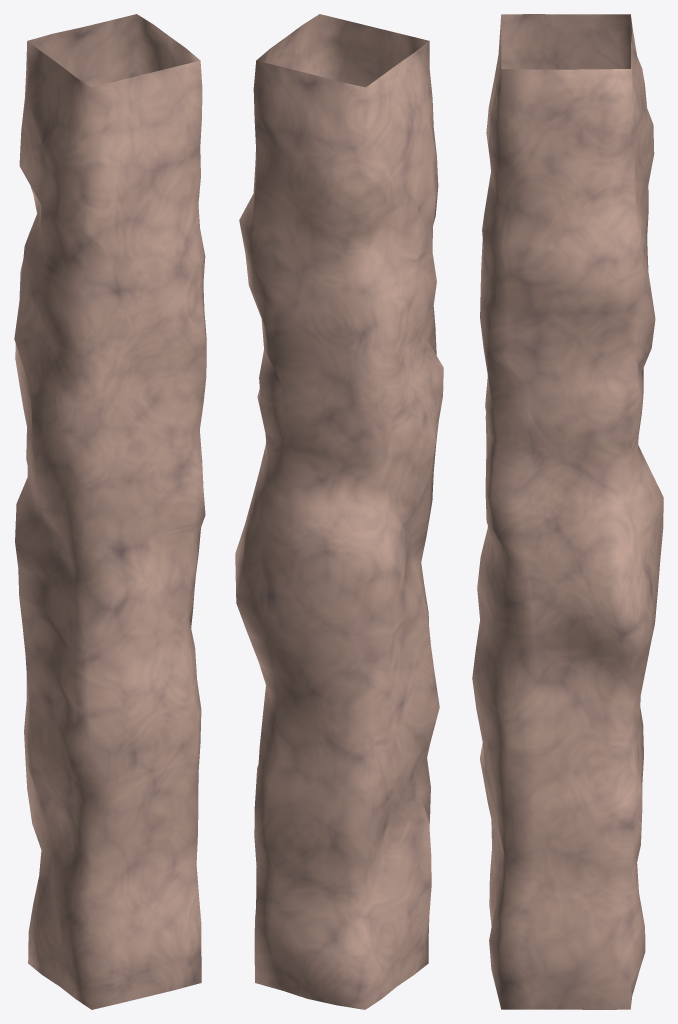
The model's file is pillar.fbx.
The picture shows the model from 3 angles, left to right: view 1: azimuth 30°, elevation 25°; view 2: azimuth 150°, elevation 25°; view 3: azimuth 270°, elevation 25°; orthographic projection.
Parts seen in each view (by area): view 1: PillarCube8, PillarCube6, PillarCube3, PillarCube7, PillarCube4, PillarCube5, PillarCube1, PillarCube2; view 2: PillarCube8, PillarCube4, PillarCube7, PillarCube6, PillarCube1, PillarCube3, PillarCube5, PillarCube2; view 3: PillarCube8, PillarCube4, PillarCube7, PillarCube3, PillarCube2, PillarCube5, PillarCube6, PillarCube1.
Part boxes in pixels (x1,y1,x2,y2): PillarCube8: (19, 14, 202, 205); PillarCube6: (14, 272, 206, 432); PillarCube3: (22, 611, 201, 779); PillarCube7: (20, 166, 205, 316); PillarCube4: (15, 504, 205, 657); PillarCube5: (16, 403, 205, 545); PillarCube1: (28, 850, 201, 1009); PillarCube2: (24, 732, 200, 893); PillarCube8: (253, 14, 436, 205); PillarCube4: (235, 498, 432, 662); PillarCube7: (239, 157, 438, 318); PillarCube6: (249, 282, 443, 439); PillarCube1: (254, 854, 431, 1009); PillarCube3: (248, 616, 439, 777); PillarCube5: (252, 396, 442, 545); PillarCube2: (254, 744, 431, 892); PillarCube8: (486, 14, 654, 192); PillarCube4: (477, 498, 663, 658); PillarCube7: (481, 135, 653, 318); PillarCube3: (472, 620, 650, 767); PillarCube2: (480, 724, 643, 893); PillarCube5: (485, 403, 663, 534); PillarCube6: (480, 272, 655, 421); PillarCube1: (489, 848, 645, 1009).
Bounding box in the file's own units: 3.14 × 16.02 × 2.95.
Materials: 1 (1 with a texture image).
